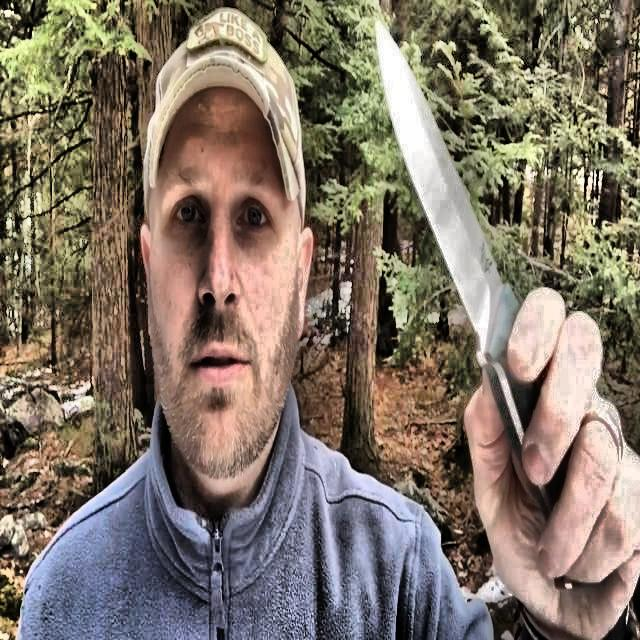knife: (375, 23, 606, 586)
